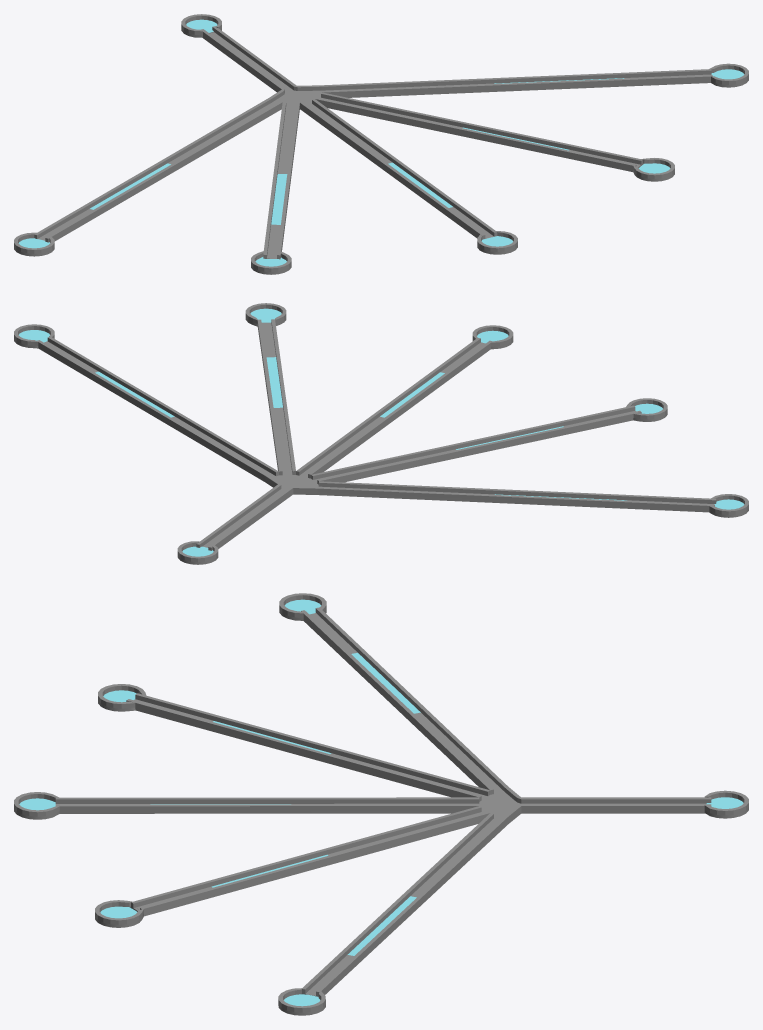
Rendered from bridge (3).FBX.
The picture shows the model from 3 angles, top to bottom: view 1: azimuth 30°, elevation 25°; view 2: azimuth 150°, elevation 25°; view 3: azimuth 270°, elevation 25°; orthographic projection. The views are drawn at different scales.
Parts seen in each view (by area): view 1: Box006; view 2: Box006; view 3: Box006.
Part boxes in pixels (x1,y1,x2,y2): Box006: (14,14,748,274); Box006: (14,303,748,564); Box006: (14,593,748,1015).
Bounding box in the file's own units: 1169 × 11.49 × 875.
